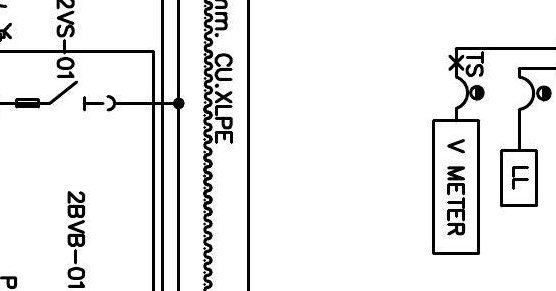LL: (499, 148, 539, 208)
v_m_digital: (431, 118, 481, 256)
